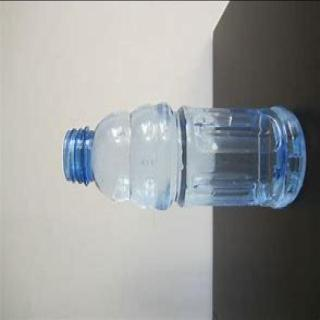Anorganik: (56, 94, 310, 220)
